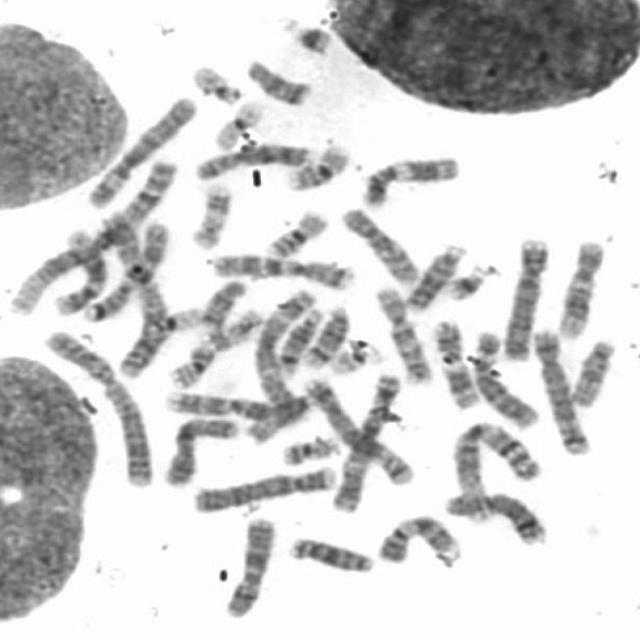A1: (4, 152, 181, 316), (446, 416, 542, 524)
A2: (39, 326, 156, 489), (96, 220, 174, 380)
A3: (244, 288, 321, 445), (328, 370, 405, 515)
B4: (188, 462, 341, 515), (497, 234, 551, 363)
B5: (300, 374, 414, 487), (528, 327, 593, 456)
C10: (336, 204, 420, 287), (370, 284, 434, 386)
C11: (356, 150, 462, 210), (429, 316, 480, 410)
C12: (552, 237, 606, 341), (47, 226, 108, 318)
C6: (81, 92, 198, 211), (464, 330, 539, 433)
C7: (79, 219, 173, 327), (207, 249, 354, 290)
C8: (440, 487, 550, 546), (190, 140, 315, 182)
C9: (372, 510, 463, 567), (160, 386, 298, 423)
D13: (400, 240, 467, 314), (285, 532, 375, 574)
D14: (273, 303, 325, 377), (298, 302, 352, 370)
D15: (241, 381, 336, 448), (564, 336, 618, 408)
E16: (282, 140, 353, 192), (260, 207, 329, 260)
E17: (186, 180, 234, 252), (198, 305, 266, 352)
E18: (243, 56, 312, 106), (195, 277, 248, 329)
F19: (209, 96, 266, 152), (142, 304, 203, 334)
F20: (165, 340, 218, 390), (278, 432, 341, 466)
G21: (280, 15, 334, 58), (444, 262, 490, 302)
G22: (187, 62, 244, 106), (328, 344, 374, 376)
X: (159, 413, 241, 487), (222, 517, 276, 619)
